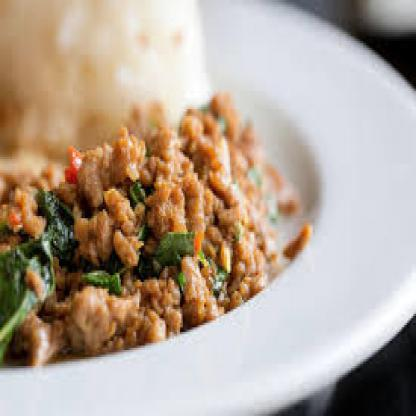Basil Rice: (0, 9, 313, 368)
